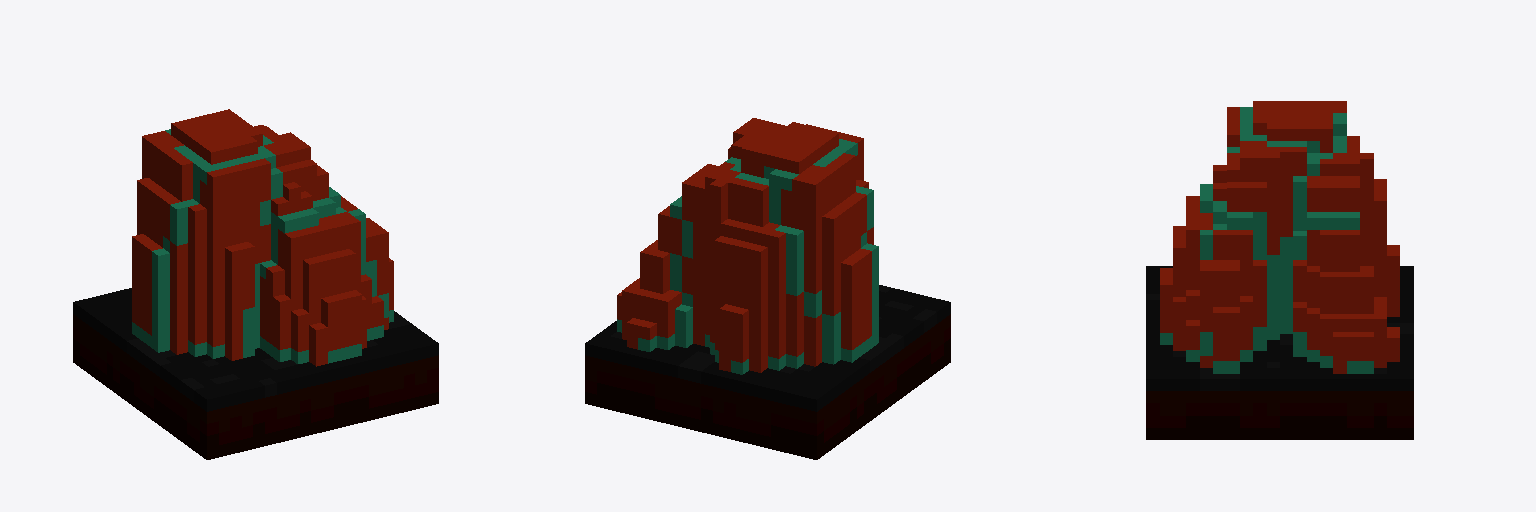
The model's file is copper.obj.
3 renders of one model, left to right at view 1: azimuth 30°, elevation 25°; view 2: azimuth 150°, elevation 25°; view 3: azimuth 270°, elevation 25°, orthographic.
Parts seen in each view (by area): view 1: copper; view 2: copper; view 3: copper.
Part boxes in pixels (x1,y1,x2,y2): copper: (73,109,438,459); copper: (585,118,950,459); copper: (1146,101,1413,439).
Bounding box in the file's own units: 1 × 1.05 × 1.